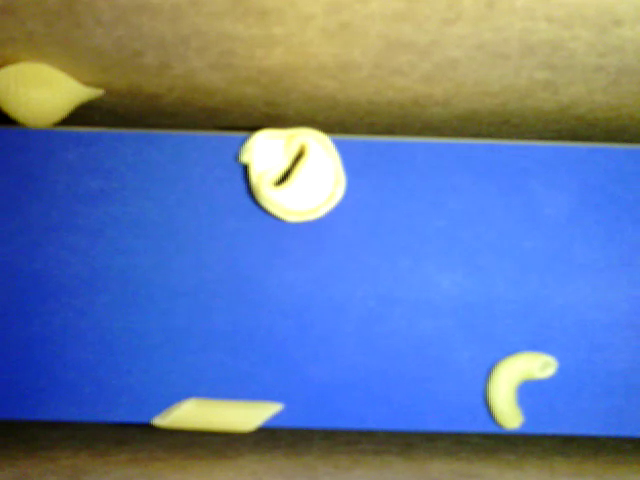elbow: (485, 350, 558, 430)
penne: (151, 396, 284, 432)
shell: (1, 61, 105, 128)
tortellini: (238, 125, 348, 223)
